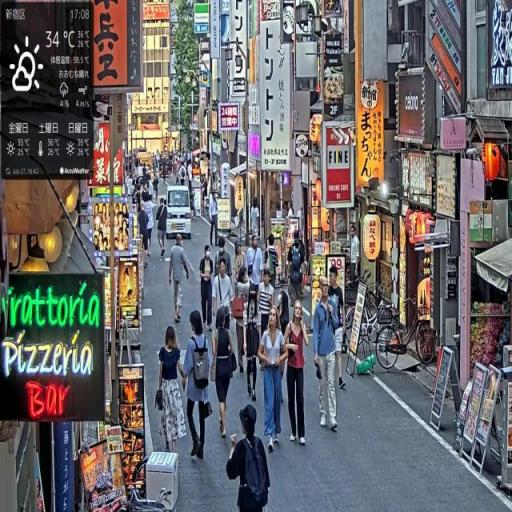person: (180, 310, 216, 460), (225, 402, 271, 512), (256, 307, 290, 454), (282, 300, 313, 446), (313, 281, 341, 432), (156, 325, 188, 454), (212, 307, 239, 442), (328, 265, 347, 396), (168, 232, 193, 325), (212, 257, 236, 336), (247, 237, 265, 319), (200, 242, 216, 331), (258, 267, 276, 346), (157, 195, 169, 262), (209, 192, 220, 249)
